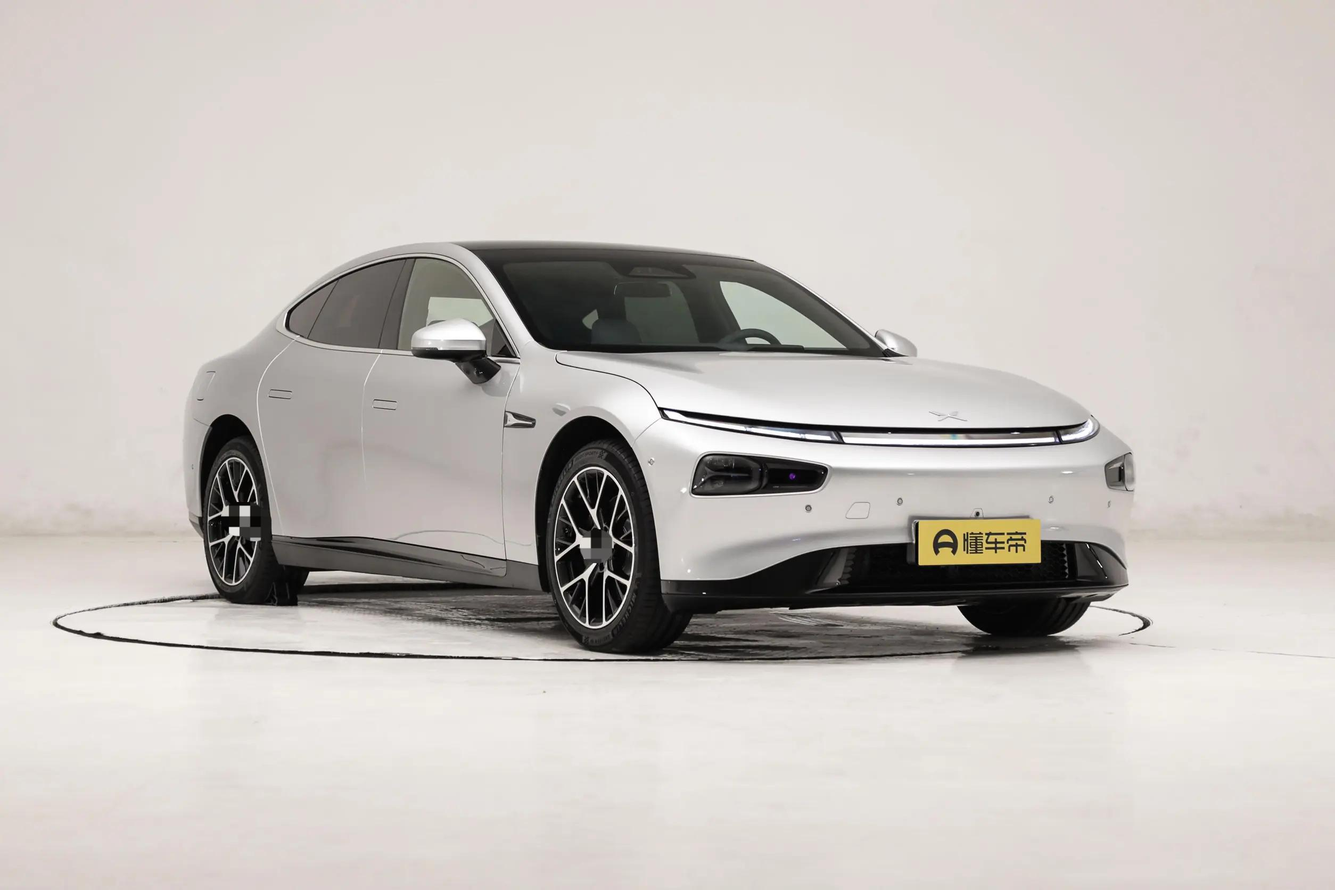XPeng Motors: (929, 410, 969, 422)
